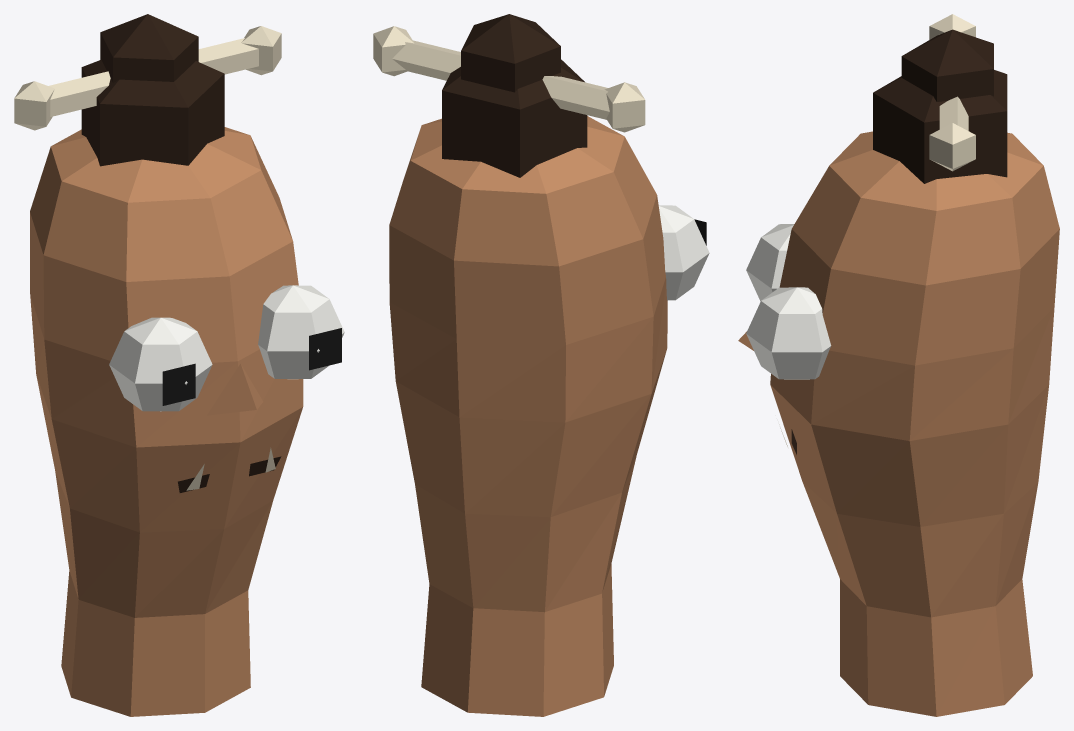
Rendered from part_head.obj.
The picture shows the model from 3 angles, left to right: view 1: azimuth 30°, elevation 25°; view 2: azimuth 150°, elevation 25°; view 3: azimuth 270°, elevation 25°; orthographic projection. The views are drawn at different scales.
Visible parts, largest first — view 1: CavemanHead; view 2: CavemanHead; view 3: CavemanHead.
Part boxes in pixels (x1,y1,x2,y2): CavemanHead: (14,14,344,716); CavemanHead: (373,14,709,716); CavemanHead: (738,14,1059,716).
Bounding box in the file's own units: 0.5666 × 1.33 × 0.6.
